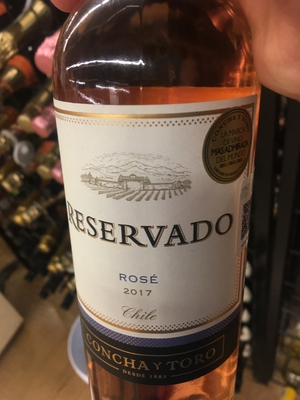reservado rose: (59, 1, 260, 400)
